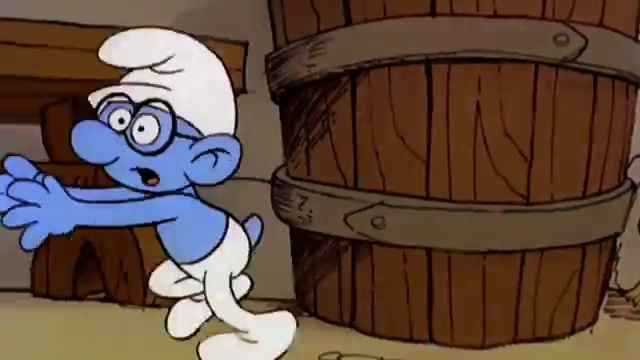smurf: (1, 26, 298, 360)
